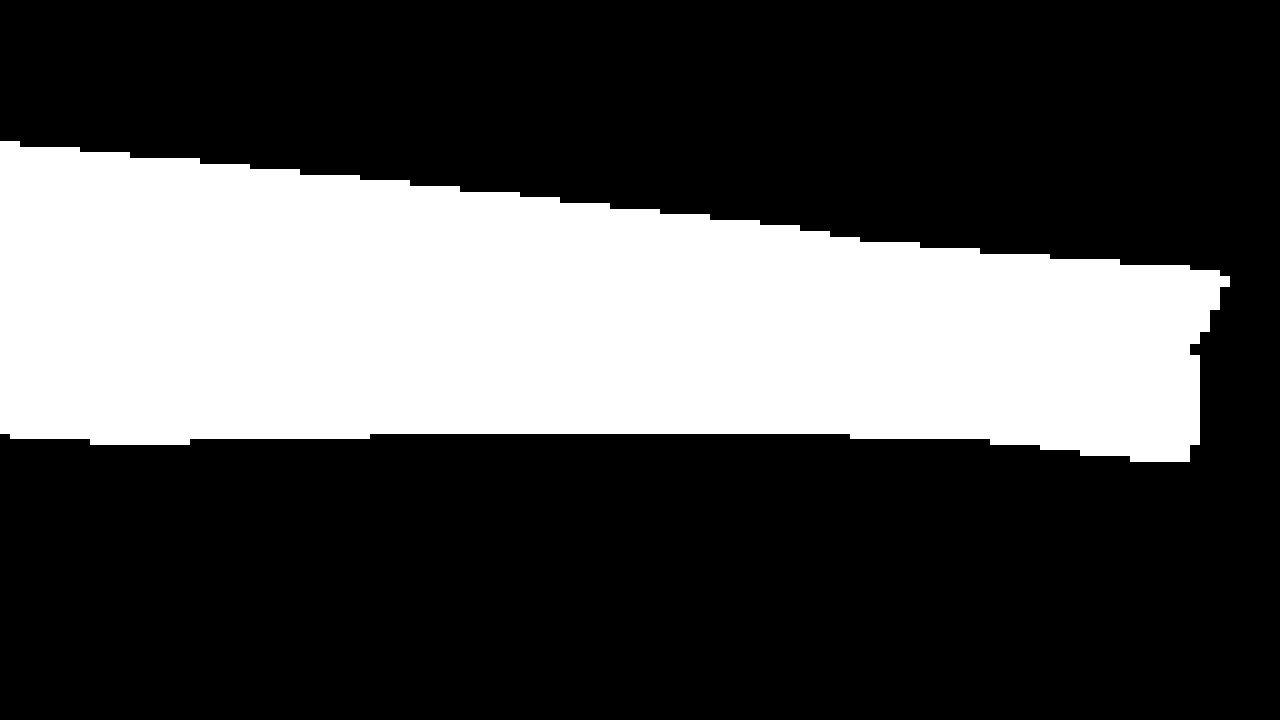Turbine: (17, 118, 1218, 490)
